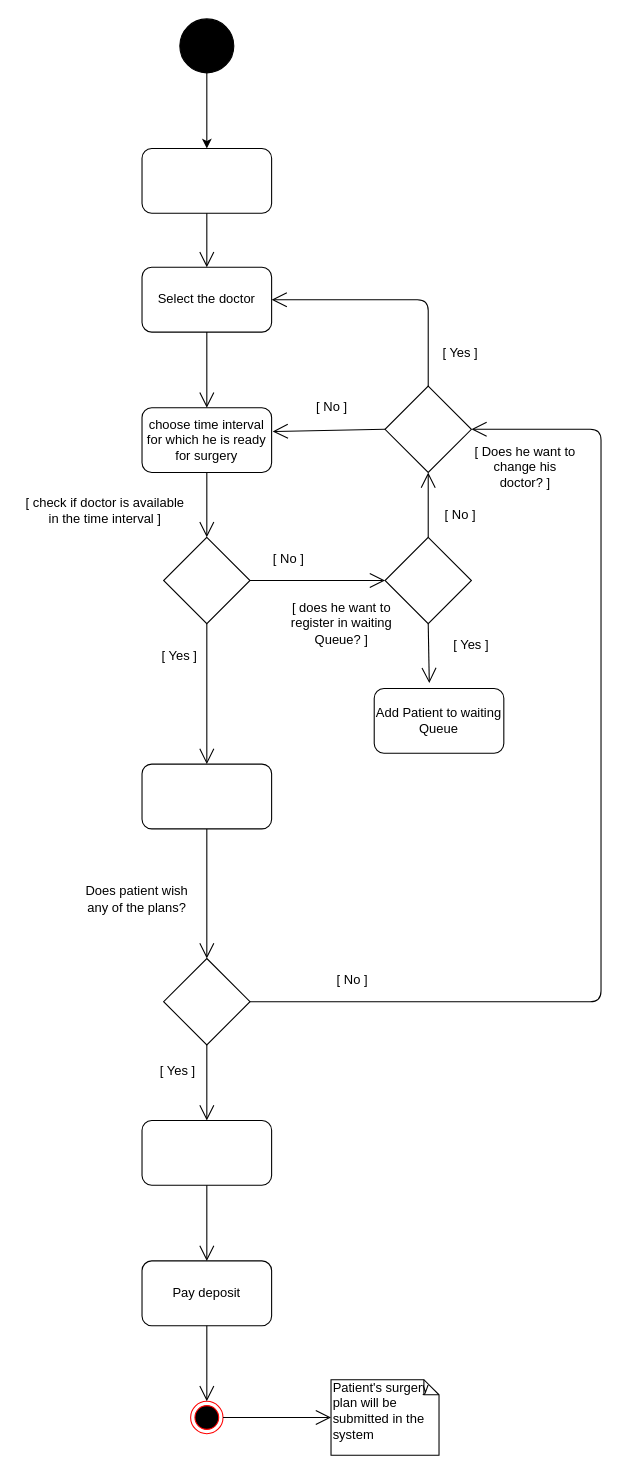
The diagram is 635 pixels wide and 1474 high, and some of its shapes have lost their labels. The box of each missing label's shape, as (x1, y1, x2, y2) in pixels:
Select surgery type: (141, 147, 272, 213)
show at least 1 surgery plan to the patient: (141, 763, 272, 829)
ticket, hotel, visa, companion reservation: (141, 1119, 272, 1185)
